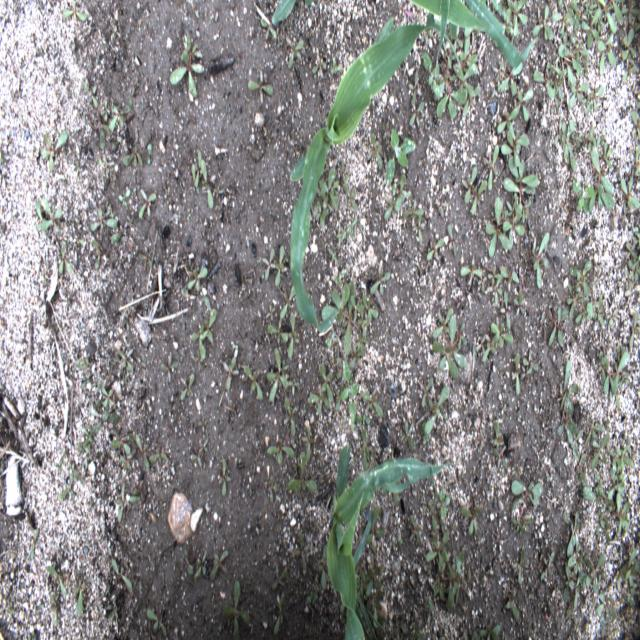crop: (290, 10, 458, 332), (326, 446, 455, 638), (408, 0, 538, 81), (270, 0, 314, 23)
weed: (320, 280, 361, 356), (433, 42, 469, 120), (432, 312, 468, 380), (169, 33, 205, 101), (508, 478, 544, 537), (502, 156, 540, 209), (483, 194, 512, 259), (385, 128, 417, 185), (223, 577, 252, 638), (588, 149, 615, 212), (440, 551, 465, 615), (558, 40, 590, 89), (286, 448, 318, 496), (40, 124, 71, 173), (422, 382, 450, 436), (500, 119, 532, 165), (558, 358, 582, 415), (602, 351, 630, 399), (86, 104, 114, 151), (529, 230, 550, 292), (266, 346, 288, 404), (379, 455, 404, 506), (420, 48, 445, 98), (247, 65, 276, 107), (502, 200, 526, 250), (424, 528, 451, 572), (38, 194, 65, 237), (340, 357, 360, 415), (108, 95, 135, 137), (454, 32, 478, 79), (316, 166, 340, 212), (492, 5, 515, 53), (558, 508, 580, 558), (569, 257, 595, 299), (108, 555, 134, 596), (496, 59, 524, 97), (583, 550, 607, 594), (597, 0, 625, 37), (610, 490, 632, 536), (618, 545, 637, 598), (580, 7, 603, 50), (510, 83, 534, 124), (366, 503, 385, 554), (589, 429, 611, 472), (266, 437, 296, 468), (242, 362, 264, 404), (547, 304, 567, 350), (45, 562, 69, 600), (452, 60, 476, 98), (571, 178, 595, 216), (122, 127, 144, 168), (200, 157, 217, 210), (460, 497, 482, 537), (597, 31, 616, 77), (393, 172, 413, 214), (370, 257, 391, 297), (594, 590, 620, 622), (551, 8, 577, 40), (361, 386, 384, 422), (531, 5, 554, 41), (571, 446, 589, 491), (88, 207, 119, 233), (532, 67, 555, 102), (279, 279, 298, 321), (565, 116, 579, 173), (584, 81, 606, 117), (469, 176, 488, 217), (459, 252, 483, 284), (619, 174, 639, 212), (136, 186, 157, 222), (208, 547, 229, 583), (198, 306, 219, 342), (432, 306, 454, 340), (490, 320, 514, 351), (494, 105, 518, 136), (566, 80, 590, 111), (460, 164, 479, 203), (606, 465, 626, 502), (284, 35, 305, 70), (145, 606, 167, 638), (565, 282, 585, 317), (407, 510, 424, 551), (461, 83, 482, 116), (272, 592, 287, 638), (260, 245, 278, 283), (365, 564, 384, 600), (159, 352, 179, 386), (190, 321, 207, 361), (293, 532, 310, 572), (33, 198, 49, 240), (274, 242, 288, 290), (282, 396, 298, 438), (318, 362, 334, 404), (186, 264, 209, 293), (222, 355, 240, 392), (486, 142, 499, 193), (481, 330, 501, 363), (302, 424, 318, 465), (109, 429, 134, 455), (618, 27, 636, 63), (116, 344, 135, 378), (382, 194, 404, 223), (539, 548, 557, 583), (511, 1, 528, 38), (318, 542, 331, 590), (307, 392, 333, 416), (554, 418, 578, 444), (581, 485, 608, 508), (266, 316, 288, 344), (402, 198, 424, 226), (584, 418, 606, 446), (218, 457, 233, 498), (399, 419, 416, 455), (439, 546, 456, 582), (486, 274, 503, 310), (522, 347, 540, 381), (178, 370, 197, 402), (270, 562, 290, 592), (370, 131, 385, 171), (259, 12, 279, 42), (593, 140, 613, 170), (406, 71, 424, 104), (574, 297, 595, 325), (135, 433, 150, 472), (286, 311, 298, 359), (408, 98, 426, 130), (548, 70, 566, 102), (499, 290, 513, 331), (360, 293, 379, 323), (350, 549, 366, 584), (426, 236, 446, 264), (626, 307, 639, 350), (598, 485, 616, 516), (62, 1, 88, 22), (359, 428, 372, 470), (372, 589, 386, 628), (342, 181, 359, 213), (104, 214, 122, 244), (73, 577, 87, 615), (498, 264, 521, 287), (114, 480, 126, 524), (194, 546, 209, 581), (56, 247, 74, 276), (310, 51, 328, 80), (614, 442, 632, 471), (566, 551, 586, 577), (568, 0, 582, 37), (315, 200, 330, 234), (420, 374, 435, 408), (492, 442, 509, 472), (591, 292, 605, 328), (349, 342, 366, 371), (118, 446, 136, 473), (479, 618, 502, 639), (83, 82, 99, 112), (412, 211, 426, 245), (620, 0, 639, 25), (505, 590, 519, 623), (80, 424, 100, 447), (562, 565, 574, 603), (551, 116, 565, 148), (598, 350, 610, 387), (491, 419, 504, 453), (621, 56, 638, 82), (364, 137, 380, 164), (516, 547, 527, 586), (348, 293, 365, 318), (433, 574, 450, 599), (100, 383, 116, 409), (182, 550, 198, 576), (490, 59, 506, 85), (262, 123, 280, 146), (560, 120, 569, 166), (90, 238, 102, 272), (570, 426, 584, 455), (349, 405, 364, 432), (512, 351, 521, 396), (101, 405, 120, 426), (190, 160, 201, 196), (138, 247, 153, 273), (439, 488, 452, 518), (608, 448, 623, 474), (267, 474, 279, 506), (49, 590, 59, 628), (193, 150, 203, 188), (357, 311, 371, 338), (129, 484, 146, 506), (610, 379, 622, 410), (96, 157, 112, 180), (116, 187, 132, 210), (448, 29, 464, 52), (201, 293, 215, 319), (319, 187, 333, 213), (474, 331, 488, 357), (598, 517, 612, 543), (513, 288, 525, 318), (59, 481, 75, 503), (433, 198, 449, 220), (624, 559, 640, 581), (190, 444, 204, 469), (571, 576, 581, 611), (621, 265, 635, 290), (487, 264, 502, 287), (630, 108, 640, 142), (545, 56, 562, 76), (358, 574, 372, 598), (623, 240, 639, 261), (146, 448, 168, 463), (448, 224, 458, 257), (593, 510, 606, 535), (627, 257, 640, 282), (549, 94, 563, 117), (29, 528, 39, 560), (336, 356, 348, 382), (422, 21, 434, 47), (591, 135, 603, 161), (356, 334, 370, 356), (75, 350, 91, 369), (286, 376, 301, 396), (334, 382, 344, 412), (428, 502, 438, 532), (139, 354, 152, 377), (616, 367, 630, 388), (614, 343, 626, 367), (380, 121, 393, 143), (323, 330, 338, 349), (329, 57, 344, 76), (364, 451, 376, 474), (42, 261, 52, 288), (586, 124, 595, 154), (107, 598, 118, 622), (460, 572, 472, 594), (419, 421, 431, 443), (632, 144, 640, 176), (518, 364, 533, 381), (145, 141, 154, 169), (101, 98, 111, 123), (504, 199, 517, 218), (80, 370, 92, 390), (326, 247, 338, 267), (435, 516, 447, 536), (477, 270, 487, 294), (598, 610, 606, 640), (624, 283, 640, 298), (304, 589, 318, 606), (331, 268, 345, 285), (484, 88, 498, 105), (338, 223, 349, 244), (608, 306, 619, 327), (198, 414, 208, 437), (74, 470, 86, 489), (341, 160, 350, 185), (582, 2, 598, 16), (194, 348, 204, 370), (522, 201, 532, 223), (625, 592, 635, 613), (199, 435, 210, 454), (352, 214, 363, 233), (582, 92, 593, 111), (212, 183, 225, 199), (265, 304, 276, 322), (612, 464, 624, 480), (423, 596, 434, 613), (288, 144, 301, 158), (6, 600, 15, 620), (437, 404, 447, 422), (527, 220, 536, 240), (71, 42, 79, 64), (346, 216, 357, 231), (68, 461, 76, 481), (370, 556, 380, 572), (358, 414, 371, 426), (600, 128, 608, 147), (80, 357, 90, 372), (61, 237, 72, 250), (422, 498, 432, 512), (280, 358, 286, 380), (336, 225, 342, 247), (215, 623, 223, 639), (316, 452, 324, 468), (216, 196, 225, 210), (84, 450, 90, 470), (395, 533, 404, 546), (570, 132, 581, 142), (282, 250, 288, 266), (57, 458, 63, 473), (26, 630, 35, 640), (263, 478, 272, 487), (632, 225, 638, 236), (392, 182, 396, 197), (231, 344, 239, 349)
